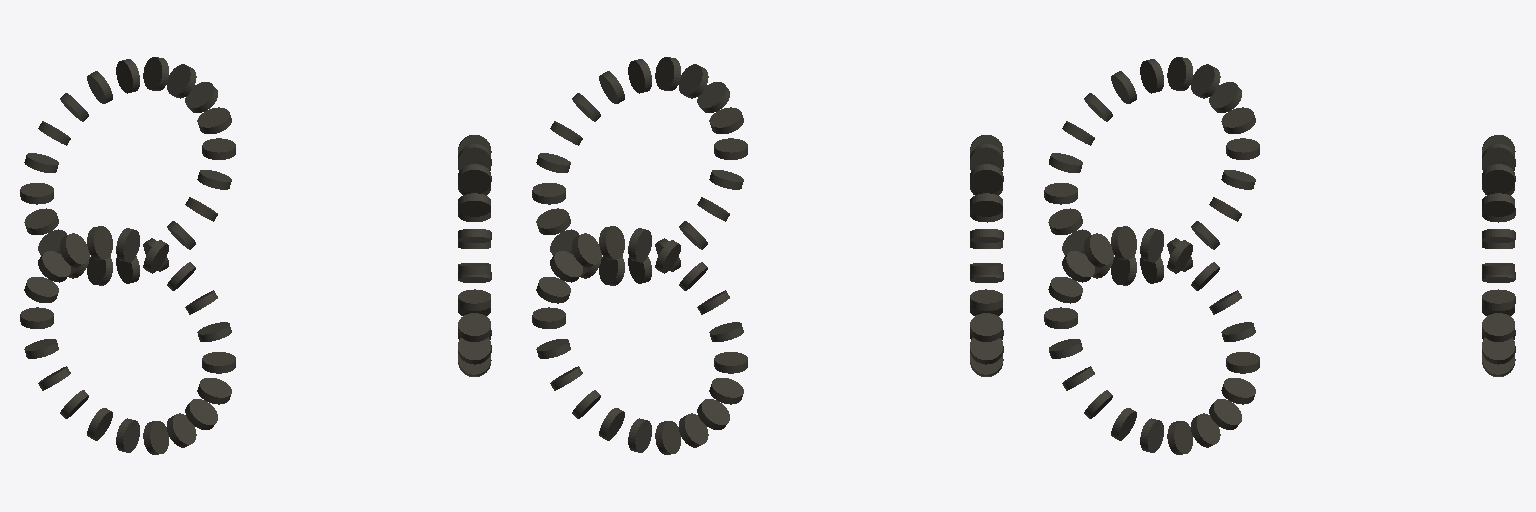
--- What the picture shows (computed from the rendered views, not written in the file) ---
Views: 3 orthographic renders of the robot side by side, from view 1: azimuth 30°, elevation 25°; view 2: azimuth 150°, elevation 25°; view 3: azimuth 270°, elevation 25°.
Model onshape with 65 links and 64 joints (63 revolute, 1 floating), rooted at body_1, posed all joints at 0.
Visible links, largest first — view 1: passivewheel_1, passivewheel_16, passivewheel_24, passivewheel_50, passivewheel_35, passivewheel_34, passivewheel_25, passivewheel_49, passivewheel_23, passivewheel_51, passivewheel_33, passivewheel_36 (+18 smaller); view 2: passivewheel_23, passivewheel_28, passivewheel_20, passivewheel_50, passivewheel_59, passivewheel_60, passivewheel_49, passivewheel_19, passivewheel_1, passivewheel_51, passivewheel_41, passivewheel_8 (+18 smaller); view 3: passivewheel_51, passivewheel_46, passivewheel_20, passivewheel_24, passivewheel_9, passivewheel_10, passivewheel_19, passivewheel_25, passivewheel_1, passivewheel_23, passivewheel_11, passivewheel_8 (+18 smaller).
Boxes of the visible links, bbox=[...] form: passivewheel_1: bbox=[458, 164, 491, 193]; passivewheel_16: bbox=[458, 313, 490, 341]; passivewheel_24: bbox=[60, 233, 89, 267]; passivewheel_50: bbox=[167, 64, 196, 98]; passivewheel_35: bbox=[185, 399, 217, 429]; passivewheel_34: bbox=[167, 413, 196, 447]; passivewheel_25: bbox=[38, 251, 70, 282]; passivewheel_49: bbox=[185, 82, 217, 112]; passivewheel_23: bbox=[87, 226, 112, 259]; passivewheel_51: bbox=[143, 57, 168, 90]; passivewheel_33: bbox=[143, 421, 168, 454]; passivewheel_36: bbox=[197, 378, 231, 404]; passivewheel_23: bbox=[970, 164, 1003, 193]; passivewheel_28: bbox=[970, 313, 1002, 341]; passivewheel_20: bbox=[679, 64, 708, 98]; passivewheel_50: bbox=[572, 233, 601, 267]; passivewheel_59: bbox=[697, 399, 729, 429]; passivewheel_60: bbox=[679, 413, 708, 447]; passivewheel_49: bbox=[550, 251, 582, 282]; passivewheel_19: bbox=[697, 82, 729, 112]; passivewheel_1: bbox=[655, 57, 680, 90]; passivewheel_51: bbox=[599, 226, 624, 259]; passivewheel_41: bbox=[655, 421, 680, 454]; passivewheel_8: bbox=[536, 208, 570, 234]; passivewheel_51: bbox=[1482, 164, 1515, 193]; passivewheel_46: bbox=[1482, 313, 1514, 341]; passivewheel_20: bbox=[1084, 233, 1113, 267]; passivewheel_24: bbox=[1191, 64, 1220, 98]; passivewheel_9: bbox=[1209, 399, 1241, 429]; passivewheel_10: bbox=[1191, 413, 1220, 447]; passivewheel_19: bbox=[1062, 251, 1094, 282]; passivewheel_25: bbox=[1209, 82, 1241, 112]; passivewheel_1: bbox=[1111, 226, 1136, 259]; passivewheel_23: bbox=[1167, 57, 1192, 90]; passivewheel_11: bbox=[1167, 421, 1192, 454]; passivewheel_8: bbox=[1221, 378, 1255, 404].
Size in the robot's own frame: 0.1924 by 0.1682 by 0.087 metres.
Geometry: only primitive shapes (box / cylinder / sphere) drawn; not drawn: 8 mesh visuals (reference in a form the renderer does not follow).

The robot description file, URDF, robot "onshape":
<robot name="onshape">
<link name="body_1">
<collision>
<origin xyz="-1.73472e-18 -6.93889e-18 2.60209e-18" rpy="0 -0 2.0944" />
<geometry>
<mesh filename="package://motor.stl"/>
</geometry>
<material name="motor_material">
<color rgba="0.647059 0.647059 0.647059 1.0"/>
</material>
</collision>
<visual>
<origin xyz="-1.73472e-18 -6.93889e-18 2.60209e-18" rpy="0 -0 2.0944" />
<geometry>
<mesh filename="package://motor.stl"/>
</geometry>
<material name="motor_material">
<color rgba="0.647059 0.647059 0.647059 1.0"/>
</material>
</visual>
<collision>
<origin xyz="0 6.93889e-18 0" rpy="0 -0 -2.0944" />
<geometry>
<mesh filename="package://motor.stl"/>
</geometry>
<material name="motor_material">
<color rgba="0.647059 0.647059 0.647059 1.0"/>
</material>
</collision>
<visual>
<origin xyz="0 6.93889e-18 0" rpy="0 -0 -2.0944" />
<geometry>
<mesh filename="package://motor.stl"/>
</geometry>
<material name="motor_material">
<color rgba="0.647059 0.647059 0.647059 1.0"/>
</material>
</visual>
<collision>
<origin xyz="0 0 0" rpy="0 -0 0" />
<geometry>
<mesh filename="package://motor.stl"/>
</geometry>
<material name="motor_material">
<color rgba="0.647059 0.647059 0.647059 1.0"/>
</material>
</collision>
<visual>
<origin xyz="0 0 0" rpy="0 -0 0" />
<geometry>
<mesh filename="package://motor.stl"/>
</geometry>
<material name="motor_material">
<color rgba="0.647059 0.647059 0.647059 1.0"/>
</material>
</visual>
<collision>
<origin xyz="0 0 0" rpy="0 -0 0" />
<geometry>
<mesh filename="package://plate.stl"/>
</geometry>
<material name="plate_material">
<color rgba="0.682353 0.333333 0.737255 1.0"/>
</material>
</collision>
<visual>
<origin xyz="0 0 0" rpy="0 -0 0" />
<geometry>
<mesh filename="package://plate.stl"/>
</geometry>
<material name="plate_material">
<color rgba="0.682353 0.333333 0.737255 1.0"/>
</material>
</visual>
<collision>
<origin xyz="0 0 0.023" rpy="0 -0 0" />
<geometry>
<mesh filename="package://plate.stl"/>
</geometry>
<material name="plate_material">
<color rgba="0.682353 0.333333 0.737255 1.0"/>
</material>
</collision>
<visual>
<origin xyz="0 0 0.023" rpy="0 -0 0" />
<geometry>
<mesh filename="package://plate.stl"/>
</geometry>
<material name="plate_material">
<color rgba="0.682353 0.333333 0.737255 1.0"/>
</material>
</visual>
<inertial>
<origin xyz="0.000413137 0.000238525 0.0129604" rpy="0 0 0"/>
<mass value="0.55184" />
<inertia ixx="0.000615732" ixy="-4.54339e-06"  ixz="-9.03686e-09" iyy="0.000620978" iyz="-5.21743e-09" izz="0.00118941" />
</inertial>
</link>

<link name="body">
<inertial>
<origin xyz="0 0 0" rpy="0 0 0" />
<mass value="1e-9" />
<inertia ixx="0" ixy="0" ixz="0" iyy="0" iyz="0" izz="0" />
</inertial>
</link>
<joint name="body_frame" type="floating">
<origin xyz="0.00418699 0.00241736 0.0145" rpy="0 -0 0.523599" />
<parent link="body_1" />
<child link="body" />
<axis xyz="0 0 0"/>
</joint>

<link name="wheel_1">
<collision>
<origin xyz="-0.0649519 0.0375 -0.013" rpy="0 -0 0" />
<geometry>
<mesh filename="package://wheel.stl"/>
</geometry>
<material name="wheel_material">
<color rgba="0.941176 0.87451 0.678431 1.0"/>
</material>
</collision>
<visual>
<origin xyz="-0.0649519 0.0375 -0.013" rpy="0 -0 0" />
<geometry>
<mesh filename="package://wheel.stl"/>
</geometry>
<material name="wheel_material">
<color rgba="0.941176 0.87451 0.678431 1.0"/>
</material>
</visual>
<inertial>
<origin xyz="0.00216506 -0.00125 1.43812e-09" rpy="0 0 0"/>
<mass value="0.0192491" />
<inertia ixx="1.19744e-05" ixy="-2.94324e-06"  ixz="-2.17358e-13" iyy="8.5758e-06" iyz="-4.22e-13" izz="6.87651e-06" />
</inertial>
</link>

<link name="passivewheel_1">
<collision>
<origin xyz="-8.65334e-20 -1.37444e-17 -0.002" rpy="-2.2109e-17 -2.24259e-18 1.48478e-17" />
<geometry>
<cylinder length="0.003" radius="0.006" />
</geometry>
</collision>
<visual>
<origin xyz="-8.65334e-20 -1.37444e-17 -0.002" rpy="-2.2109e-17 -2.24259e-18 1.48478e-17" />
<geometry>
<cylinder length="0.003" radius="0.006" />
</geometry>
<material name="passivewheel_material">
<color rgba="0.301961 0.290196 0.262745 1.0"/>
</material>
</visual>
<inertial>
<origin xyz="-7.33894e-20 -1.33556e-17 -0.002" rpy="0 0 0"/>
<mass value="0.00285906" />
<inertia ixx="2.77473e-08" ixy="4.48199e-25"  ixz="-1.0907e-24" iyy="2.77473e-08" iyz="7.68138e-25" izz="4.89774e-08" />
</inertial>
</link>

<joint name="w1_1_passive" type="revolute">
<origin xyz="-0.00458006 -0.0129329 0.0350466" rpy="1.88959 0.167828 -0.468522" />
<parent link="wheel_1" />
<child link="passivewheel_1" />
<axis xyz="0 0 -1"/>
<limit effort="1" velocity="20" />
<joint_properties friction="0.0"/>
</joint>

<link name="passivewheel_2">
<collision>
<origin xyz="-1.38226e-17 6.23173e-35 0.002" rpy="3.11587e-32 -6.45501e-17 -7.99795e-32" />
<geometry>
<cylinder length="0.003" radius="0.006" />
</geometry>
</collision>
<visual>
<origin xyz="-1.38226e-17 6.23173e-35 0.002" rpy="3.11587e-32 -6.45501e-17 -7.99795e-32" />
<geometry>
<cylinder length="0.003" radius="0.006" />
</geometry>
<material name="passivewheel_material">
<color rgba="0.301961 0.290196 0.262745 1.0"/>
</material>
</visual>
<inertial>
<origin xyz="-1.38094e-17 3.88785e-19 0.002" rpy="0 0 0"/>
<mass value="0.00285906" />
<inertia ixx="2.77473e-08" ixy="-3.7544e-39"  ixz="3.92767e-24" iyy="2.77473e-08" iyz="2.39064e-39" izz="4.89774e-08" />
</inertial>
</link>

<joint name="w1_2_passive" type="revolute">
<origin xyz="0.00116506 -0.00298205 0.0375" rpy="-1.5708 -1.43508e-16 -0.523599" />
<parent link="wheel_1" />
<child link="passivewheel_2" />
<axis xyz="0 0 -1"/>
<limit effort="1" velocity="20" />
<joint_properties friction="0.0"/>
</joint>

<link name="passivewheel_3">
<collision>
<origin xyz="1.38922e-17 2.6865e-20 0.002" rpy="1.06058e-17 -2.2972e-17 5.57501e-18" />
<geometry>
<cylinder length="0.003" radius="0.006" />
</geometry>
</collision>
<visual>
<origin xyz="1.38922e-17 2.6865e-20 0.002" rpy="1.06058e-17 -2.2972e-17 5.57501e-18" />
<geometry>
<cylinder length="0.003" radius="0.006" />
</geometry>
<material name="passivewheel_material">
<color rgba="0.301961 0.290196 0.262745 1.0"/>
</material>
</visual>
<inertial>
<origin xyz="1.39053e-17 4.1565e-19 0.002" rpy="0 0 0"/>
<mass value="0.00285906" />
<inertia ixx="2.77473e-08" ixy="-6.19881e-25"  ixz="1.32457e-24" iyy="2.77473e-08" iyz="8.9216e-25" izz="4.89774e-08" />
</inertial>
</link>

<joint name="w1_3_passive" type="revolute">
<origin xyz="0.00700808 0.00713834 0.0362827" rpy="-1.88959 -0.167828 -0.468522" />
<parent link="wheel_1" />
<child link="passivewheel_3" />
<axis xyz="0 0 1"/>
<limit effort="1" velocity="20" />
<joint_properties friction="0.0"/>
</joint>

<link name="passivewheel_4">
<collision>
<origin xyz="-1.39623e-17 -3.53119e-18 0.002" rpy="-3.70505e-17 9.26482e-18 -5.8578e-18" />
<geometry>
<cylinder length="0.003" radius="0.006" />
</geometry>
</collision>
<visual>
<origin xyz="-1.39623e-17 -3.53119e-18 0.002" rpy="-3.70505e-17 9.26482e-18 -5.8578e-18" />
<geometry>
<cylinder length="0.003" radius="0.006" />
</geometry>
<material name="passivewheel_material">
<color rgba="0.301961 0.290196 0.262745 1.0"/>
</material>
</visual>
<inertial>
<origin xyz="-1.39492e-17 -3.14241e-18 0.002" rpy="0 0 0"/>
<mass value="0.00285906" />
<inertia ixx="2.77473e-08" ixy="1.50205e-25"  ixz="-1.62648e-24" iyy="2.77473e-08" iyz="-2.67128e-24" izz="4.89774e-08" />
</inertial>
</link>

<joint name="w1_4_passive" type="revolute">
<origin xyz="0.012377 0.0164376 0.0315137" rpy="-2.22524 -0.263005 -0.326713" />
<parent link="wheel_1" />
<child link="passivewheel_4" />
<axis xyz="0 0 -1"/>
<limit effort="1" velocity="20" />
<joint_properties friction="0.0"/>
</joint>

<link name="passivewheel_5">
<collision>
<origin xyz="1.12586e-19 -1.7413e-18 0.002" rpy="-4.54039e-17 1.34564e-17 -8.80755e-18" />
<geometry>
<cylinder length="0.003" radius="0.006" />
</geometry>
</collision>
<visual>
<origin xyz="1.12586e-19 -1.7413e-18 0.002" rpy="-4.54039e-17 1.34564e-17 -8.80755e-18" />
<geometry>
<cylinder length="0.003" radius="0.006" />
</geometry>
<material name="passivewheel_material">
<color rgba="0.301961 0.290196 0.262745 1.0"/>
</material>
</visual>
<inertial>
<origin xyz="1.2573e-19 -1.35251e-18 0.002" rpy="0 0 0"/>
<mass value="0.00285906" />
<inertia ixx="2.77473e-08" ixy="-8.92466e-25"  ixz="9.02911e-25" iyy="2.77473e-08" iyz="-2.31498e-24" izz="4.89774e-08" />
</inertial>
</link>

<joint name="w1_5_passive" type="revolute">
<origin xyz="0.0167463 0.0240055 0.02366" rpy="-2.55942 -0.251389 -0.162305" />
<parent link="wheel_1" />
<child link="passivewheel_5" />
<axis xyz="0 0 -1"/>
<limit effort="1" velocity="20" />
<joint_properties friction="0.0"/>
</joint>

<link name="passivewheel_6">
<collision>
<origin xyz="-2.10013e-20 8.31218e-19 0.002" rpy="2.06449e-17 1.31438e-17 -3.67268e-19" />
<geometry>
<cylinder length="0.003" radius="0.006" />
</geometry>
</collision>
<visual>
<origin xyz="-2.10013e-20 8.31218e-19 0.002" rpy="2.06449e-17 1.31438e-17 -3.67268e-19" />
<geometry>
<cylinder length="0.003" radius="0.006" />
</geometry>
<material name="passivewheel_material">
<color rgba="0.301961 0.290196 0.262745 1.0"/>
</material>
</visual>
<inertial>
<origin xyz="-7.85727e-21 1.22e-18 0.002" rpy="0 0 0"/>
<mass value="0.00285906" />
<inertia ixx="2.77473e-08" ixy="-1.46704e-26"  ixz="-9.35112e-25" iyy="2.77473e-08" iyz="5.0969e-25" izz="4.89774e-08" />
</inertial>
</link>

<joint name="w1_6_passive" type="revolute">
<origin xyz="0.0196884 0.0291012 0.0134903" rpy="-2.86413 -0.149286 -0.042335" />
<parent link="wheel_1" />
<child link="passivewheel_6" />
<axis xyz="0 0 -1"/>
<limit effort="1" velocity="20" />
<joint_properties friction="0.0"/>
</joint>

<link name="passivewheel_7">
<collision>
<origin xyz="-1.97215e-34 -1.73472e-18 -0.002" rpy="-1.97215e-31 -9.86076e-32 2.15704e-32" />
<geometry>
<cylinder length="0.003" radius="0.006" />
</geometry>
</collision>
<visual>
<origin xyz="-1.97215e-34 -1.73472e-18 -0.002" rpy="-1.97215e-31 -9.86076e-32 2.15704e-32" />
<geometry>
<cylinder length="0.003" radius="0.006" />
</geometry>
<material name="passivewheel_material">
<color rgba="0.301961 0.290196 0.262745 1.0"/>
</material>
</visual>
<inertial>
<origin xyz="1.3144e-20 -1.34594e-18 -0.002" rpy="0 0 0"/>
<mass value="0.00285906" />
<inertia ixx="2.77473e-08" ixy="2.56509e-39"  ixz="2.09345e-39" iyy="2.77473e-08" iyz="-1.51313e-38" izz="4.89774e-08" />
</inertial>
</link>

<joint name="w1_7_passive" type="revolute">
<origin xyz="0.0209151 0.031226 0.002" rpy="1.88738e-15 -6.66134e-16 -4.85723e-16" />
<parent link="wheel_1" />
<child link="passivewheel_7" />
<axis xyz="0 0 1"/>
<limit effort="1" velocity="20" />
<joint_properties friction="0.0"/>
</joint>

<link name="passivewheel_8">
<collision>
<origin xyz="-1.39158e-17 -1.76166e-18 -0.002" rpy="4.52906e-18 -5.42635e-18 -9.08807e-18" />
<geometry>
<cylinder length="0.003" radius="0.006" />
</geometry>
</collision>
<visual>
<origin xyz="-1.39158e-17 -1.76166e-18 -0.002" rpy="4.52906e-18 -5.42635e-18 -9.08807e-18" />
<geometry>
<cylinder length="0.003" radius="0.006" />
</geometry>
<material name="passivewheel_material">
<color rgba="0.301961 0.290196 0.262745 1.0"/>
</material>
</visual>
<inertial>
<origin xyz="-1.39027e-17 -1.37287e-18 -0.002" rpy="0 0 0"/>
<mass value="0.00285906" />
<inertia ixx="2.77473e-08" ixy="-3.02658e-25"  ixz="-2.62042e-25" iyy="2.77473e-08" iyz="-1.51839e-25" izz="4.89774e-08" />
</inertial>
</link>

<joint name="w1_8_passive" type="revolute">
<origin xyz="0.0203064 0.0301717 -0.00968602" rpy="-0.277462 0.149286 -0.042335" />
<parent link="wheel_1" />
<child link="passivewheel_8" />
<axis xyz="0 0 -1"/>
<limit effort="1" velocity="20" />
<joint_properties friction="0.0"/>
</joint>

<link name="passivewheel_9">
<collision>
<origin xyz="-7.60547e-20 1.61524e-18 -0.002" rpy="-9.81892e-18 5.3587e-17 3.65203e-17" />
<geometry>
<cylinder length="0.003" radius="0.006" />
</geometry>
</collision>
<visual>
<origin xyz="-7.60547e-20 1.61524e-18 -0.002" rpy="-9.81892e-18 5.3587e-17 3.65203e-17" />
<geometry>
<cylinder length="0.003" radius="0.006" />
</geometry>
<material name="passivewheel_material">
<color rgba="0.301961 0.290196 0.262745 1.0"/>
</material>
</visual>
<inertial>
<origin xyz="-6.29107e-20 2.00403e-18 -0.002" rpy="0 0 0"/>
<mass value="0.00285906" />
<inertia ixx="2.77473e-08" ixy="1.81304e-24"  ixz="-3.6797e-24" iyy="2.77473e-08" iyz="-2.13855e-24" izz="4.89774e-08" />
</inertial>
</link>

<joint name="w1_9_passive" type="revolute">
<origin xyz="0.0179219 0.0260417 -0.0204239" rpy="-0.58217 0.251389 -0.162305" />
<parent link="wheel_1" />
<child link="passivewheel_9" />
<axis xyz="0 0 1"/>
<limit effort="1" velocity="20" />
<joint_properties friction="0.0"/>
</joint>

<link name="passivewheel_10">
<collision>
<origin xyz="2.75535e-17 -2.15212e-18 0.002" rpy="6.82258e-17 -4.15246e-17 8.09012e-18" />
<geometry>
<cylinder length="0.003" radius="0.006" />
</geometry>
</collision>
<visual>
<origin xyz="2.75535e-17 -2.15212e-18 0.002" rpy="6.82258e-17 -4.15246e-17 8.09012e-18" />
<geometry>
<cylinder length="0.003" radius="0.006" />
</geometry>
<material name="passivewheel_material">
<color rgba="0.301961 0.290196 0.262745 1.0"/>
</material>
</visual>
<inertial>
<origin xyz="2.75667e-17 -1.76333e-18 0.002" rpy="0 0 0"/>
<mass value="0.00285906" />
<inertia ixx="2.77473e-08" ixy="9.51103e-25"  ixz="-7.69204e-25" iyy="2.77473e-08" iyz="2.06328e-24" izz="4.89774e-08" />
</inertial>
</link>

<joint name="w1_10_passive" type="revolute">
<origin xyz="0.0139951 0.0192401 -0.0291626" rpy="2.22524 0.263005 -0.326713" />
<parent link="wheel_1" />
<child link="passivewheel_10" />
<axis xyz="0 0 -1"/>
<limit effort="1" velocity="20" />
<joint_properties friction="0.0"/>
</joint>

<link name="passivewheel_11">
<collision>
<origin xyz="4.18559e-20 -3.43295e-18 0.002" rpy="-7.98079e-18 4.98371e-17 -2.49231e-17" />
<geometry>
<cylinder length="0.003" radius="0.006" />
</geometry>
</collision>
<visual>
<origin xyz="4.18559e-20 -3.43295e-18 0.002" rpy="-7.98079e-18 4.98371e-17 -2.49231e-17" />
<geometry>
<cylinder length="0.003" radius="0.006" />
</geometry>
<material name="passivewheel_material">
<color rgba="0.301961 0.290196 0.262745 1.0"/>
</material>
</visual>
<inertial>
<origin xyz="5.49999e-20 -3.04416e-18 0.002" rpy="0 0 0"/>
<mass value="0.00285906" />
<inertia ixx="2.77473e-08" ixy="-6.30044e-25"  ixz="-1.8602e-24" iyy="2.77473e-08" iyz="1.15516e-25" izz="4.89774e-08" />
</inertial>
</link>

<joint name="w1_11_passive" type="revolute">
<origin xyz="0.00891019 0.0104329 -0.0350466" rpy="1.88959 0.167828 -0.468522" />
<parent link="wheel_1" />
<child link="passivewheel_11" />
<axis xyz="0 0 -1"/>
<limit effort="1" velocity="20" />
<joint_properties friction="0.0"/>
</joint>

<link name="passivewheel_12">
<collision>
<origin xyz="2.75633e-17 -4.93038e-35 0.002" rpy="0 -1.48742e-17 3.08149e-33" />
<geometry>
<cylinder length="0.003" radius="0.006" />
</geometry>
</collision>
<visual>
<origin xyz="2.75633e-17 -4.93038e-35 0.002" rpy="0 -1.48742e-17 3.08149e-33" />
<geometry>
<cylinder length="0.003" radius="0.006" />
</geometry>
<material name="passivewheel_material">
<color rgba="0.301961 0.290196 0.262745 1.0"/>
</material>
</visual>
<inertial>
<origin xyz="2.75764e-17 3.88785e-19 0.002" rpy="0 0 0"/>
<mass value="0.00285906" />
<inertia ixx="2.77473e-08" ixy="8.55029e-41"  ixz="-1.93935e-24" iyy="2.77473e-08" iyz="-6.84023e-40" izz="4.89774e-08" />
</inertial>
</link>

<joint name="w1_12_passive" type="revolute">
<origin xyz="0.00316506 0.000482051 -0.0375" rpy="1.5708 2.76844e-17 -0.523599" />
<parent link="wheel_1" />
<child link="passivewheel_12" />
<axis xyz="0 0 -1"/>
<limit effort="1" velocity="20" />
<joint_properties friction="0.0"/>
</joint>

<link name="passivewheel_13">
<collision>
<origin xyz="7.21753e-20 3.90318e-21 0.002" rpy="-1.58601e-18 -7.60053e-17 -3.40008e-17" />
<geometry>
<cylinder length="0.003" radius="0.006" />
</geometry>
</collision>
<visual>
<origin xyz="7.21753e-20 3.90318e-21 0.002" rpy="-1.58601e-18 -7.60053e-17 -3.40008e-17" />
<geometry>
<cylinder length="0.003" radius="0.006" />
</geometry>
<material name="passivewheel_material">
<color rgba="0.301961 0.290196 0.262745 1.0"/>
</material>
</visual>
<inertial>
<origin xyz="8.53194e-20 3.92688e-19 0.002" rpy="0 0 0"/>
<mass value="0.00285906" />
<inertia ixx="2.77473e-08" ixy="-8.22243e-25"  ixz="4.72388e-24" iyy="2.77473e-08" iyz="-2.35274e-26" izz="4.89774e-08" />
</inertial>
</link>

<joint name="w1_13_passive" type="revolute">
<origin xyz="-0.00267795 -0.00963834 -0.0362827" rpy="1.252 -0.167828 -0.468522" />
<parent link="wheel_1" />
<child link="passivewheel_13" />
<axis xyz="0 0 -1"/>
<limit effort="1" velocity="20" />
<joint_properties friction="0.0"/>
</joint>

<link name="passivewheel_14">
<collision>
<origin xyz="8.27648e-20 -6.65655e-18 -0.002" rpy="3.53392e-17 1.28571e-16 3.49542e-17" />
<geometry>
<cylinder length="0.003" radius="0.006" />
</geometry>
</collision>
<visual>
<origin xyz="8.27648e-20 -6.65655e-18 -0.002" rpy="3.53392e-17 1.28571e-16 3.49542e-17" />
<geometry>
<cylinder length="0.003" radius="0.006" />
</geometry>
<material name="passivewheel_material">
<color rgba="0.301961 0.290196 0.262745 1.0"/>
</material>
</visual>
<inertial>
<origin xyz="9.59088e-20 -6.26776e-18 -0.002" rpy="0 0 0"/>
<mass value="0.00285906" />
<inertia ixx="2.77473e-08" ixy="1.49204e-24"  ixz="-5.1488e-24" iyy="2.77473e-08" iyz="5.648e-24" izz="4.89774e-08" />
</inertial>
</link>

<joint name="w1_14_passive" type="revolute">
<origin xyz="-0.00804689 -0.0189376 -0.0315137" rpy="-2.22524 -0.263005 -0.326713" />
<parent link="wheel_1" />
<child link="passivewheel_14" />
<axis xyz="0 0 1"/>
<limit effort="1" velocity="20" />
<joint_properties friction="0.0"/>
</joint>

<link name="passivewheel_15">
<collision>
<origin xyz="5.4097e-20 1.39009e-17 -0.002" rpy="2.59376e-17 9.30841e-18 -2.04356e-18" />
<geometry>
<cylinder length="0.003" radius="0.006" />
</geometry>
</collision>
<visual>
<origin xyz="5.4097e-20 1.39009e-17 -0.002" rpy="2.59376e-17 9.30841e-18 -2.04356e-18" />
<geometry>
<cylinder length="0.003" radius="0.006" />
</geometry>
<material name="passivewheel_material">
<color rgba="0.301961 0.290196 0.262745 1.0"/>
</material>
</visual>
<inertial>
<origin xyz="6.7241e-20 1.42897e-17 -0.002" rpy="0 0 0"/>
<mass value="0.00285906" />
<inertia ixx="2.77473e-08" ixy="-9.19631e-27"  ixz="2.9462e-25" iyy="2.77473e-08" iyz="1.59155e-24" izz="4.89774e-08" />
</inertial>
</link>

<joint name="w1_15_passive" type="revolute">
<origin xyz="-0.0124162 -0.0265055 -0.02366" rpy="-2.55942 -0.251389 -0.162305" />
<parent link="wheel_1" />
<child link="passivewheel_15" />
<axis xyz="0 0 1"/>
<limit effort="1" velocity="20" />
<joint_properties friction="0.0"/>
</joint>

<link name="passivewheel_16">
<collision>
<origin xyz="6.95999e-18 -1.36977e-17 -0.002" rpy="2.08155e-17 2.33252e-17 -9.41875e-18" />
<geometry>
<cylinder length="0.003" radius="0.006" />
</geometry>
</collision>
<visual>
<origin xyz="6.95999e-18 -1.36977e-17 -0.002" rpy="2.08155e-17 2.33252e-17 -9.41875e-18" />
<geometry>
<cylinder length="0.003" radius="0.006" />
</geometry>
<material name="passivewheel_material">
<color rgba="0.301961 0.290196 0.262745 1.0"/>
</material>
</visual>
<inertial>
<origin xyz="6.97313e-18 -1.33089e-17 -0.002" rpy="0 0 0"/>
<mass value="0.00285906" />
<inertia ixx="2.77473e-08" ixy="-1.79804e-25"  ixz="-8.49718e-25" iyy="2.77473e-08" iyz="3.51849e-24" izz="4.89774e-08" />
</inertial>
</link>

<joint name="w1_16_passive" type="revolute">
<origin xyz="-0.0153582 -0.0316012 -0.0134903" rpy="-2.86413 -0.149286 -0.042335" />
<parent link="wheel_1" />
<child link="passivewheel_16" />
<axis xyz="0 0 1"/>
<limit effort="1" velocity="20" />
<joint_properties friction="0.0"/>
</joint>

<link name="passivewheel_17">
<collision>
<origin xyz="2.27711e-48 -1.38778e-17 -0.002" rpy="2.46519e-32 -5.69278e-46 -1.54074e-33" />
<geometry>
<cylinder length="0.003" radius="0.006" />
</geometry>
</collision>
<visual>
<origin xyz="2.27711e-48 -1.38778e-17 -0.002" rpy="2.46519e-32 -5.69278e-46 -1.54074e-33" />
<geometry>
<cylinder length="0.003" radius="0.006" />
</geometry>
<material name="passivewheel_material">
<color rgba="0.301961 0.290196 0.262745 1.0"/>
</material>
</visual>
<inertial>
<origin xyz="1.3144e-20 -1.3489e-17 -0.002" rpy="0 0 0"/>
<mass value="0.00285906" />
<inertia ixx="2.77473e-08" ixy="-3.42012e-40"  ixz="5.94735e-53" iyy="2.77473e-08" iyz="1.89141e-39" izz="4.89774e-08" />
</inertial>
</link>

<joint name="w1_17_passive" type="revolute">
<origin xyz="-0.0165849 -0.033726 -0.002" rpy="3.14159 -5.55112e-17 8.32667e-17" />
<parent link="wheel_1" />
<child link="passivewheel_17" />
<axis xyz="0 0 -1"/>
<limit effort="1" velocity="20" />
<joint_properties friction="0.0"/>
</joint>

<link name="passivewheel_18">
<collision>
<origin xyz="6.91527e-18 1.37823e-17 0.002" rpy="-8.55049e-18 -1.51043e-17 2.07291e-19" />
<geometry>
<cylinder length="0.003" radius="0.006" />
</geometry>
</collision>
<visual>
<origin xyz="6.91527e-18 1.37823e-17 0.002" rpy="-8.55049e-18 -1.51043e-17 2.07291e-19" />
<geometry>
<cylinder length="0.003" radius="0.006" />
</geometry>
<material name="passivewheel_material">
<color rgba="0.301961 0.290196 0.262745 1.0"/>
</material>
</visual>
<inertial>
<origin xyz="6.92841e-18 1.41711e-17 0.002" rpy="0 0 0"/>
<mass value="0.00285906" />
<inertia ixx="2.77473e-08" ixy="6.34976e-26"  ixz="4.12016e-25" iyy="2.77473e-08" iyz="-1.74364e-24" izz="4.89774e-08" />
</inertial>
</link>

<joint name="w1_18_passive" type="revolute">
<origin xyz="-0.0159763 -0.0326717 0.00968602" rpy="-0.277462 0.149286 -0.042335" />
<parent link="wheel_1" />
<child link="passivewheel_18" />
<axis xyz="0 0 -1"/>
<limit effort="1" velocity="20" />
<joint_properties friction="0.0"/>
</joint>

<link name="passivewheel_19">
<collision>
<origin xyz="-6.99736e-18 7.83154e-20 0.002" rpy="1.07489e-16 -1.34964e-18 -1.25099e-17" />
<geometry>
<cylinder length="0.003" radius="0.006" />
</geometry>
</collision>
<visual>
<origin xyz="-6.99736e-18 7.83154e-20 0.002" rpy="1.07489e-16 -1.34964e-18 -1.25099e-17" />
<geometry>
<cylinder length="0.003" radius="0.006" />
</geometry>
<material name="passivewheel_material">
<color rgba="0.301961 0.290196 0.262745 1.0"/>
</material>
</visual>
<inertial>
<origin xyz="-6.98422e-18 4.67101e-19 0.002" rpy="0 0 0"/>
<mass value="0.00285906" />
<inertia ixx="2.77473e-08" ixy="-1.08884e-24"  ixz="-7.45024e-25" iyy="2.77473e-08" iyz="6.35107e-24" izz="4.89774e-08" />
</inertial>
</link>

<joint name="w1_19_passive" type="revolute">
<origin xyz="-0.0135918 -0.0285417 0.0204239" rpy="-0.58217 0.251389 -0.162305" />
<parent link="wheel_1" />
<child link="passivewheel_19" />
<axis xyz="0 0 -1"/>
<limit effort="1" velocity="20" />
<joint_properties friction="0.0"/>
</joint>

<link name="passivewheel_20">
<collision>
<origin xyz="-3.03261e-20 -1.36656e-17 0.002" rpy="3.40716e-18 2.76633e-17 -1.32691e-17" />
<geometry>
<cylinder length="0.003" radius="0.006" />
</geometry>
</collision>
<visual>
<origin xyz="-3.03261e-20 -1.36656e-17 0.002" rpy="3.40716e-18 2.76633e-17 -1.32691e-17" />
<geometry>
<cylinder length="0.003" radius="0.006" />
</geometry>
<material name="passivewheel_material">
<color rgba="0.301961 0.290196 0.262745 1.0"/>
</material>
</visual>
<inertial>
<origin xyz="-1.71821e-20 -1.32768e-17 0.002" rpy="0 0 0"/>
<mass value="0.00285906" />
<inertia ixx="2.77473e-08" ixy="-6.14637e-25"  ixz="-1.77561e-24" iyy="2.77473e-08" iyz="3.11072e-24" izz="4.89774e-08" />
</inertial>
</link>

<joint name="w1_20_passive" type="revolute">
<origin xyz="-0.00966493 -0.0217401 0.0291626" rpy="-0.916354 0.263005 -0.326713" />
<parent link="wheel_1" />
<child link="passivewheel_20" />
<axis xyz="0 0 -1"/>
<limit effort="1" velocity="20" />
<joint_properties friction="0.0"/>
</joint>

<joint name="wheel1_speed" type="revolute">
<origin xyz="0.069282 -0.04 0.013" rpy="0 -0 0" />
<parent link="body_1" />
<child link="wheel_1" />
<axis xyz="-0.866025 0.5 0"/>
<limit effort="1" velocity="20" />
<joint_properties friction="0.0"/>
</joint>

<link name="wheel_2">
<collision>
<origin xyz="-0.069282 0.04 -0.013" rpy="0 -0 -4.43364e-17" />
<geometry>
<mesh filename="package://wheel.stl"/>
</geometry>
<material name="wheel_material">
<color rgba="0.941176 0.87451 0.678431 1.0"/>
</material>
</collision>
<visual>
<origin xyz="-0.069282 0.04 -0.013" rpy="0 -0 -4.43364e-17" />
<geometry>
<mesh filename="package://wheel.stl"/>
</geometry>
<material name="wheel_material">
<color rgba="0.941176 0.87451 0.678431 1.0"/>
</material>
</visual>
<inertial>
<origin xyz="-0.00216506 0.00125 1.43812e-09" rpy="0 0 0"/>
<mass value="0.0192491" />
<inertia ixx="1.19744e-05" ixy="-2.94324e-06"  ixz="-2.17358e-13" iyy="8.5758e-06" iyz="-4.22e-13" izz="6.87651e-06" />
</inertial>
</link>

<link name="passivewheel_21">
<collision>
<origin xyz="1.38506e-17 -1.40281e-17 -0.002" rpy="-2.21979e-17 -1.58884e-17 2.11441e-17" />
<geometry>
<cylinder length="0.003" radius="0.006" />
</geometry>
</collision>
<visual>
<origin xyz="1.38506e-17 -1.40281e-17 -0.002" rpy="-2.21979e-17 -1.58884e-17 2.11441e-17" />
<geometry>
<cylinder length="0.003" radius="0.006" />
</geometry>
<material name="passivewheel_material">
<color rgba="0.301961 0.290196 0.262745 1.0"/>
</material>
</visual>
<inertial>
<origin xyz="1.38637e-17 -1.36393e-17 -0.002" rpy="0 0 0"/>
<mass value="0.00285906" />
<inertia ixx="2.77473e-08" ixy="1.6627e-25"  ixz="4.00778e-25" iyy="2.77473e-08" iyz="-3.17304e-24" izz="4.89774e-08" />
</inertial>
</link>

<joint name="w3_1_passive" type="revolute">
<origin xyz="-0.00891019 -0.0104329 0.0350466" rpy="1.88959 -0.167828 -0.578675" />
<parent link="wheel_2" />
<child link="passivewheel_21" />
<axis xyz="0 0 -1"/>
<limit effort="1" velocity="20" />
<joint_properties friction="0.0"/>
</joint>

<link name="passivewheel_22">
<collision>
<origin xyz="-1.16704e-20 -1.22442e-35 0.002" rpy="6.23173e-32 -8.75281e-18 -6.02378e-33" />
<geometry>
<cylinder length="0.003" radius="0.006" />
</geometry>
</collision>
<visual>
<origin xyz="-1.16704e-20 -1.22442e-35 0.002" rpy="6.23173e-32 -8.75281e-18 -6.02378e-33" />
<geometry>
<cylinder length="0.003" radius="0.006" />
</geometry>
<material name="passivewheel_material">
<color rgba="0.301961 0.290196 0.262745 1.0"/>
</material>
</visual>
<inertial>
<origin xyz="1.47359e-21 3.88785e-19 0.002" rpy="0 0 0"/>
<mass value="0.00285906" />
<inertia ixx="2.77473e-08" ixy="3.76985e-39"  ixz="2.66779e-25" iyy="2.77473e-08" iyz="2.88227e-39" izz="4.89774e-08" />
</inertial>
</link>

<joint name="w3_2_passive" type="revolute">
<origin xyz="-0.00316506 -0.000482051 0.0375" rpy="-1.5708 1.89559e-16 -0.523599" />
<parent link="wheel_2" />
<child link="passivewheel_22" />
<axis xyz="0 0 -1"/>
<limit effort="1" velocity="20" />
<joint_properties friction="0.0"/>
</joint>

<link name="passivewheel_23">
<collision>
<origin xyz="-2.80726e-17 1.38151e-17 0.002" rpy="2.48674e-17 -6.04595e-17 -5.28499e-17" />
<geometry>
<cylinder length="0.003" radius="0.006" />
</geometry>
</collision>
<visual>
<origin xyz="-2.80726e-17 1.38151e-17 0.002" rpy="2.48674e-17 -6.04595e-17 -5.28499e-17" />
<geometry>
<cylinder length="0.003" radius="0.006" />
</geometry>
<material name="passivewheel_material">
<color rgba="0.301961 0.290196 0.262745 1.0"/>
</material>
</visual>
<inertial>
<origin xyz="-2.80594e-17 1.42039e-17 0.002" rpy="0 0 0"/>
<mass value="0.00285906" />
<inertia ixx="2.77473e-08" ixy="-1.05229e-24"  ixz="-1.43695e-24" iyy="2.77473e-08" iyz="3.47934e-25" izz="4.89774e-08" />
</inertial>
</link>

<joint name="w3_3_passive" type="revolute">
<origin xyz="0.00267795 0.00963834 0.0362827" rpy="-1.88959 0.167828 -0.578675" />
<parent link="wheel_2" />
<child link="passivewheel_23" />
<axis xyz="0 0 1"/>
<limit effort="1" velocity="20" />
<joint_properties friction="0.0"/>
</joint>

<link name="passivewheel_24">
<collision>
<origin xyz="1.44968e-20 -3.3505e-18 0.002" rpy="-2.55867e-17 -1.18157e-17 2.34424e-17" />
<geometry>
<cylinder length="0.003" radius="0.006" />
</geometry>
</collision>
<visual>
<origin xyz="1.44968e-20 -3.3505e-18 0.002" rpy="-2.55867e-17 -1.18157e-17 2.34424e-17" />
<geometry>
<cylinder length="0.003" radius="0.006" />
</geometry>
<material name="passivewheel_material">
<color rgba="0.301961 0.290196 0.262745 1.0"/>
</material>
</visual>
<inertial>
<origin xyz="2.76409e-20 -2.96171e-18 0.002" rpy="0 0 0"/>
<mass value="0.00285906" />
<inertia ixx="2.77473e-08" ixy="5.45747e-25"  ixz="7.79828e-25" iyy="2.77473e-08" iyz="3.97107e-25" izz="4.89774e-08" />
</inertial>
</link>

<joint name="w3_4_passive" type="revolute">
<origin xyz="0.00804689 0.0189376 0.0315137" rpy="-2.22524 0.263005 -0.720484" />
<parent link="wheel_2" />
<child link="passivewheel_24" />
<axis xyz="0 0 -1"/>
<limit effort="1" velocity="20" />
<joint_properties friction="0.0"/>
</joint>

<link name="passivewheel_25">
<collision>
<origin xyz="-1.20354e-20 8.04302e-19 0.002" rpy="-7.77496e-18 -1.26864e-17 2.45234e-17" />
<geometry>
<cylinder length="0.003" radius="0.006" />
</geometry>
</collision>
<visual>
<origin xyz="-1.20354e-20 8.04302e-19 0.002" rpy="-7.77496e-18 -1.26864e-17 2.45234e-17" />
<geometry>
<cylinder length="0.003" radius="0.006" />
</geometry>
<material name="passivewheel_material">
<color rgba="0.301961 0.290196 0.262745 1.0"/>
</material>
</visual>
<inertial>
<origin xyz="1.10858e-21 1.19309e-18 0.002" rpy="0 0 0"/>
<mass value="0.00285906" />
<inertia ixx="2.77473e-08" ixy="3.78613e-25"  ixz="4.54374e-25" iyy="2.77473e-08" iyz="-1.25566e-24" izz="4.89774e-08" />
</inertial>
</link>

<joint name="w3_5_passive" type="revolute">
<origin xyz="0.0124162 0.0265055 0.02366" rpy="-2.55942 0.251389 -0.884893" />
<parent link="wheel_2" />
<child link="passivewheel_25" />
<axis xyz="0 0 -1"/>
<limit effort="1" velocity="20" />
<joint_properties friction="0.0"/>
</joint>

<link name="passivewheel_26">
<collision>
<origin xyz="-1.3912e-17 8.66279e-19 0.002" rpy="6.44137e-17 1.0626e-17 -3.26263e-18" />
<geometry>
<cylinder length="0.003" radius="0.006" />
</geometry>
</collision>
<visual>
<origin xyz="-1.3912e-17 8.66279e-19 0.002" rpy="6.44137e-17 1.0626e-17 -3.26263e-18" />
<geometry>
<cylinder length="0.003" radius="0.006" />
</geometry>
<material name="passivewheel_material">
<color rgba="0.301961 0.290196 0.262745 1.0"/>
</material>
</visual>
<inertial>
<origin xyz="-1.38989e-17 1.25506e-18 0.002" rpy="0 0 0"/>
<mass value="0.00285906" />
<inertia ixx="2.77473e-08" ixy="-3.58631e-26"  ixz="-9.9525e-25" iyy="2.77473e-08" iyz="3.13979e-24" izz="4.89774e-08" />
</inertial>
</link>

<joint name="w3_6_passive" type="revolute">
<origin xyz="0.0153582 0.0316012 0.0134903" rpy="-2.86413 0.149286 -1.00486" />
<parent link="wheel_2" />
<child link="passivewheel_26" />
<axis xyz="0 0 -1"/>
<limit effort="1" velocity="20" />
<joint_properties friction="0.0"/>
</joint>

<link name="passivewheel_27">
<collision>
<origin xyz="-1.97215e-34 -3.46945e-18 -0.002" rpy="-1.97215e-31 -9.86076e-32 2.15704e-32" />
<geometry>
<cylinder length="0.003" radius="0.006" />
</geometry>
</collision>
<visual>
<origin xyz="-1.97215e-34 -3.46945e-18 -0.002" rpy="-1.97215e-31 -9.86076e-32 2.15704e-32" />
<geometry>
<cylinder length="0.003" radius="0.006" />
</geometry>
<material name="passivewheel_material">
<color rgba="0.301961 0.290196 0.262745 1.0"/>
</material>
</visual>
<inertial>
<origin xyz="1.3144e-20 -3.08066e-18 -0.002" rpy="0 0 0"/>
<mass value="0.00285906" />
<inertia ixx="2.77473e-08" ixy="2.56509e-39"  ixz="2.09345e-39" iyy="2.77473e-08" iyz="-1.51313e-38" izz="4.89774e-08" />
</inertial>
</link>

<joint name="w3_7_passive" type="revolute">
<origin xyz="0.0165849 0.033726 0.002" rpy="1.88738e-15 -6.66134e-16 -1.0472" />
<parent link="wheel_2" />
<child link="passivewheel_27" />
<axis xyz="0 0 1"/>
<limit effort="1" velocity="20" />
<joint_properties friction="0.0"/>
</joint>

<link name="passivewheel_28">
<collision>
<origin xyz="1.38783e-17 -5.59634e-20 -0.002" rpy="-5.22147e-18 4.88249e-18 -4.78549e-19" />
<geometry>
<cylinder length="0.003" radius="0.006" />
</geometry>
</collision>
<visual>
<origin xyz="1.38783e-17 -5.59634e-20 -0.002" rpy="-5.22147e-18 4.88249e-18 -4.78549e-19" />
<geometry>
<cylinder length="0.003" radius="0.006" />
</geometry>
<material name="passivewheel_material">
<color rgba="0.301961 0.290196 0.262745 1.0"/>
</material>
</visual>
<inertial>
<origin xyz="1.38914e-17 3.32822e-19 -0.002" rpy="0 0 0"/>
<mass value="0.00285906" />
<inertia ixx="2.77473e-08" ixy="-1.07718e-25"  ixz="-2.32578e-25" iyy="2.77473e-08" iyz="-1.03215e-24" izz="4.89774e-08" />
</inertial>
</link>

<joint name="w3_8_passive" type="revolute">
<origin xyz="0.0159763 0.0326717 -0.00968602" rpy="-0.277462 -0.149286 -1.00486" />
<parent link="wheel_2" />
<child link="passivewheel_28" />
<axis xyz="0 0 -1"/>
<limit effort="1" velocity="20" />
<joint_properties friction="0.0"/>
</joint>

<link name="passivewheel_29">
<collision>
<origin xyz="1.39212e-17 -1.70274e-18 -0.002" rpy="2.34669e-17 2.68506e-17 3.3256e-17" />
<geometry>
<cylinder length="0.003" radius="0.006" />
</geometry>
</collision>
<visual>
<origin xyz="1.39212e-17 -1.70274e-18 -0.002" rpy="2.34669e-17 2.68506e-17 3.3256e-17" />
<geometry>
<cylinder length="0.003" radius="0.006" />
</geometry>
<material name="passivewheel_material">
<color rgba="0.301961 0.290196 0.262745 1.0"/>
</material>
</visual>
<inertial>
<origin xyz="1.39343e-17 -1.31396e-18 -0.002" rpy="0 0 0"/>
<mass value="0.00285906" />
<inertia ixx="2.77473e-08" ixy="1.4048e-24"  ixz="-7.13309e-25" iyy="2.77473e-08" iyz="1.59302e-24" izz="4.89774e-08" />
</inertial>
</link>

<joint name="w3_9_passive" type="revolute">
<origin xyz="0.0135918 0.0285417 -0.0204239" rpy="-0.58217 -0.251389 -0.884893" />
<parent link="wheel_2" />
<child link="passivewheel_29" />
<axis xyz="0 0 1"/>
<limit effort="1" velocity="20" />
<joint_properties friction="0.0"/>
</joint>

<link name="passivewheel_30">
<collision>
<origin xyz="-6.24677e-20 -3.26896e-18 0.002" rpy="3.95586e-17 -4.82682e-17 4.62289e-17" />
<geometry>
<cylinder length="0.003" radius="0.006" />
</geometry>
</collision>
<visual>
<origin xyz="-6.24677e-20 -3.26896e-18 0.002" rpy="3.95586e-17 -4.82682e-17 4.62289e-17" />
<geometry>
<cylinder length="0.003" radius="0.006" />
</geometry>
<material name="passivewheel_material">
<color rgba="0.301961 0.290196 0.262745 1.0"/>
</material>
</visual>
<inertial>
<origin xyz="-4.93237e-20 -2.88017e-18 0.002" rpy="0 0 0"/>
<mass value="0.00285906" />
<inertia ixx="2.77473e-08" ixy="5.53782e-25"  ixz="1.4974e-24" iyy="2.77473e-08" iyz="3.2148e-24" izz="4.89774e-08" />
</inertial>
</link>

<joint name="w3_10_passive" type="revolute">
<origin xyz="0.00966493 0.0217401 -0.0291626" rpy="2.22524 -0.263005 -0.720484" />
<parent link="wheel_2" />
<child link="passivewheel_30" />
<axis xyz="0 0 -1"/>
<limit effort="1" velocity="20" />
<joint_properties friction="0.0"/>
</joint>

<link name="passivewheel_31">
<collision>
<origin xyz="1.38321e-17 -3.4402e-18 0.002" rpy="-2.47117e-17 -3.76321e-17 9.30769e-18" />
<geometry>
<cylinder length="0.003" radius="0.006" />
</geometry>
</collision>
<visual>
<origin xyz="1.38321e-17 -3.4402e-18 0.002" rpy="-2.47117e-17 -3.76321e-17 9.30769e-18" />
<geometry>
<cylinder length="0.003" radius="0.006" />
</geometry>
<material name="passivewheel_material">
<color rgba="0.301961 0.290196 0.262745 1.0"/>
</material>
</visual>
<inertial>
<origin xyz="1.38453e-17 -3.05141e-18 0.002" rpy="0 0 0"/>
<mass value="0.00285906" />
<inertia ixx="2.77473e-08" ixy="9.55002e-25"  ixz="1.20975e-24" iyy="2.77473e-08" iyz="-8.04549e-25" izz="4.89774e-08" />
</inertial>
</link>

<joint name="w3_11_passive" type="revolute">
<origin xyz="0.00458006 0.0129329 -0.0350466" rpy="1.88959 -0.167828 -0.578675" />
<parent link="wheel_2" />
<child link="passivewheel_31" />
<axis xyz="0 0 -1"/>
<limit effort="1" velocity="20" />
<joint_properties friction="0.0"/>
</joint>

<link name="passivewheel_32">
<collision>
<origin xyz="1.40483e-17 0 0.002" rpy="-1.2326e-32 2.17773e-17 0" />
<geometry>
<cylinder length="0.003" radius="0.006" />
</geometry>
</collision>
<visual>
<origin xyz="1.40483e-17 0 0.002" rpy="-1.2326e-32 2.17773e-17 0" />
<geometry>
<cylinder length="0.003" radius="0.006" />
</geometry>
<material name="passivewheel_material">
<color rgba="0.301961 0.290196 0.262745 1.0"/>
</material>
</visual>
<inertial>
<origin xyz="1.40615e-17 3.88785e-19 0.002" rpy="0 0 0"/>
<mass value="0.00285906" />
<inertia ixx="2.77473e-08" ixy="-1.06879e-41"  ixz="1.29912e-24" iyy="2.77473e-08" iyz="-6.03693e-40" izz="4.89774e-08" />
</inertial>
</link>

<joint name="w3_12_passive" type="revolute">
<origin xyz="-0.00116506 0.00298205 -0.0375" rpy="1.5708 -8.33379e-17 -0.523599" />
<parent link="wheel_2" />
<child link="passivewheel_32" />
<axis xyz="0 0 -1"/>
<limit effort="1" velocity="20" />
<joint_properties friction="0.0"/>
</joint>

<link name="passivewheel_33">
<collision>
<origin xyz="-1.38959e-17 -9.9866e-20 0.002" rpy="-1.91628e-17 4.36875e-17 1.12479e-17" />
<geometry>
<cylinder length="0.003" radius="0.006" />
</geometry>
</collision>
<visual>
<origin xyz="-1.38959e-17 -9.9866e-20 0.002" rpy="-1.91628e-17 4.36875e-17 1.12479e-17" />
<geometry>
<cylinder length="0.003" radius="0.006" />
</geometry>
<material name="passivewheel_material">
<color rgba="0.301961 0.290196 0.262745 1.0"/>
</material>
</visual>
<inertial>
<origin xyz="-1.38828e-17 2.88919e-19 0.002" rpy="0 0 0"/>
<mass value="0.00285906" />
<inertia ixx="2.77473e-08" ixy="5.36201e-25"  ixz="-2.39139e-24" iyy="2.77473e-08" iyz="-2.32405e-24" izz="4.89774e-08" />
</inertial>
</link>

<joint name="w3_13_passive" type="revolute">
<origin xyz="-0.00700808 -0.00713834 -0.0362827" rpy="1.252 0.167828 -0.578675" />
<parent link="wheel_2" />
<child link="passivewheel_33" />
<axis xyz="0 0 -1"/>
<limit effort="1" velocity="20" />
<joint_properties friction="0.0"/>
</joint>

<link name="passivewheel_34">
<collision>
<origin xyz="-8.13123e-21 -6.82645e-18 -0.002" rpy="-6.29321e-17 -4.77752e-17 -1.73308e-17" />
<geometry>
<cylinder length="0.003" radius="0.006" />
</geometry>
</collision>
<visual>
<origin xyz="-8.13123e-21 -6.82645e-18 -0.002" rpy="-6.29321e-17 -4.77752e-17 -1.73308e-17" />
<geometry>
<cylinder length="0.003" radius="0.006" />
</geometry>
<material name="passivewheel_material">
<color rgba="0.301961 0.290196 0.262745 1.0"/>
</material>
</visual>
<inertial>
<origin xyz="5.01277e-21 -6.43766e-18 -0.002" rpy="0 0 0"/>
<mass value="0.00285906" />
<inertia ixx="2.77473e-08" ixy="-1.6752e-24"  ixz="2.22709e-24" iyy="2.77473e-08" iyz="-1.52218e-24" izz="4.89774e-08" />
</inertial>
</link>

<joint name="w3_14_passive" type="revolute">
<origin xyz="-0.012377 -0.0164376 -0.0315137" rpy="-2.22524 0.263005 -0.720484" />
<parent link="wheel_2" />
<child link="passivewheel_34" />
<axis xyz="0 0 1"/>
<limit effort="1" velocity="20" />
<joint_properties friction="0.0"/>
</joint>

<link name="passivewheel_35">
<collision>
<origin xyz="-1.07496e-19 1.36837e-17 -0.002" rpy="9.78364e-17 4.00891e-18 -2.57516e-17" />
<geometry>
<cylinder length="0.003" radius="0.006" />
</geometry>
</collision>
<visual>
<origin xyz="-1.07496e-19 1.36837e-17 -0.002" rpy="9.78364e-17 4.00891e-18 -2.57516e-17" />
<geometry>
<cylinder length="0.003" radius="0.006" />
</geometry>
<material name="passivewheel_material">
<color rgba="0.301961 0.290196 0.262745 1.0"/>
</material>
</visual>
<inertial>
<origin xyz="-9.43518e-20 1.40725e-17 -0.002" rpy="0 0 0"/>
<mass value="0.00285906" />
<inertia ixx="2.77473e-08" ixy="-1.89727e-25"  ixz="-1.6877e-24" iyy="2.77473e-08" iyz="2.09935e-24" izz="4.89774e-08" />
</inertial>
</link>

<joint name="w3_15_passive" type="revolute">
<origin xyz="-0.0167463 -0.0240055 -0.02366" rpy="-2.55942 0.251389 -0.884893" />
<parent link="wheel_2" />
<child link="passivewheel_35" />
<axis xyz="0 0 1"/>
<limit effort="1" velocity="20" />
<joint_properties friction="0.0"/>
</joint>

<link name="passivewheel_36">
<collision>
<origin xyz="-8.32575e-20 -1.2726e-19 -0.002" rpy="-3.11229e-17 5.76895e-17 -1.37229e-17" />
<geometry>
<cylinder length="0.003" radius="0.006" />
</geometry>
</collision>
<visual>
<origin xyz="-8.32575e-20 -1.2726e-19 -0.002" rpy="-3.11229e-17 5.76895e-17 -1.37229e-17" />
<geometry>
<cylinder length="0.003" radius="0.006" />
</geometry>
<material name="passivewheel_material">
<color rgba="0.301961 0.290196 0.262745 1.0"/>
</material>
</visual>
<inertial>
<origin xyz="-7.01135e-20 2.61525e-19 -0.002" rpy="0 0 0"/>
<mass value="0.00285906" />
<inertia ixx="2.77473e-08" ixy="-4.15318e-25"  ixz="-3.98057e-24" iyy="2.77473e-08" iyz="-3.28988e-24" izz="4.89774e-08" />
</inertial>
</link>

<joint name="w3_16_passive" type="revolute">
<origin xyz="-0.0196884 -0.0291012 -0.0134903" rpy="-2.86413 0.149286 -1.00486" />
<parent link="wheel_2" />
<child link="passivewheel_36" />
<axis xyz="0 0 1"/>
<limit effort="1" velocity="20" />
<joint_properties friction="0.0"/>
</joint>

<link name="passivewheel_37">
<collision>
<origin xyz="2.27711e-48 -1.38778e-17 -0.002" rpy="2.46519e-32 -5.69278e-46 -1.54074e-33" />
<geometry>
<cylinder length="0.003" radius="0.006" />
</geometry>
</collision>
<visual>
<origin xyz="2.27711e-48 -1.38778e-17 -0.002" rpy="2.46519e-32 -5.69278e-46 -1.54074e-33" />
<geometry>
<cylinder length="0.003" radius="0.006" />
</geometry>
<material name="passivewheel_material">
<color rgba="0.301961 0.290196 0.262745 1.0"/>
</material>
</visual>
<inertial>
<origin xyz="1.3144e-20 -1.3489e-17 -0.002" rpy="0 0 0"/>
<mass value="0.00285906" />
<inertia ixx="2.77473e-08" ixy="-3.42012e-40"  ixz="5.94735e-53" iyy="2.77473e-08" iyz="1.89141e-39" izz="4.89774e-08" />
</inertial>
</link>

<joint name="w3_17_passive" type="revolute">
<origin xyz="-0.0209151 -0.031226 -0.002" rpy="3.14159 -5.55112e-17 -1.0472" />
<parent link="wheel_2" />
<child link="passivewheel_37" />
<axis xyz="0 0 -1"/>
<limit effort="1" velocity="20" />
<joint_properties friction="0.0"/>
</joint>

<link name="passivewheel_38">
<collision>
<origin xyz="-1.26768e-20 -1.96246e-19 0.002" rpy="1.40036e-17 -2.55171e-17 -3.24688e-18" />
<geometry>
<cylinder length="0.003" radius="0.006" />
</geometry>
</collision>
<visual>
<origin xyz="-1.26768e-20 -1.96246e-19 0.002" rpy="1.40036e-17 -2.55171e-17 -3.24688e-18" />
<geometry>
<cylinder length="0.003" radius="0.006" />
</geometry>
<material name="passivewheel_material">
<color rgba="0.301961 0.290196 0.262745 1.0"/>
</material>
</visual>
<inertial>
<origin xyz="4.67192e-22 1.92539e-19 0.002" rpy="0 0 0"/>
<mass value="0.00285906" />
<inertia ixx="2.77473e-08" ixy="-1.84005e-26"  ixz="1.07389e-24" iyy="2.77473e-08" iyz="-2.03678e-24" izz="4.89774e-08" />
</inertial>
</link>

<joint name="w3_18_passive" type="revolute">
<origin xyz="-0.0203064 -0.0301717 0.00968602" rpy="-0.277462 -0.149286 -1.00486" />
<parent link="wheel_2" />
<child link="passivewheel_38" />
<axis xyz="0 0 -1"/>
<limit effort="1" velocity="20" />
<joint_properties friction="0.0"/>
</joint>

<link name="passivewheel_39">
<collision>
<origin xyz="-3.14697e-20 3.09308e-20 0.002" rpy="3.68679e-17 -6.68594e-17 -2.47558e-17" />
<geometry>
<cylinder length="0.003" radius="0.006" />
</geometry>
</collision>
<visual>
<origin xyz="-3.14697e-20 3.09308e-20 0.002" rpy="3.68679e-17 -6.68594e-17 -2.47558e-17" />
<geometry>
<cylinder length="0.003" radius="0.006" />
</geometry>
<material name="passivewheel_material">
<color rgba="0.301961 0.290196 0.262745 1.0"/>
</material>
</visual>
<inertial>
<origin xyz="-1.83256e-20 4.19716e-19 0.002" rpy="0 0 0"/>
<mass value="0.00285906" />
<inertia ixx="2.77473e-08" ixy="-9.25127e-25"  ixz="2.838e-24" iyy="2.77473e-08" iyz="2.23482e-24" izz="4.89774e-08" />
</inertial>
</link>

<joint name="w3_19_passive" type="revolute">
<origin xyz="-0.0179219 -0.0260417 0.0204239" rpy="-0.58217 -0.251389 -0.884893" />
<parent link="wheel_2" />
<child link="passivewheel_39" />
<axis xyz="0 0 -1"/>
<limit effort="1" velocity="20" />
<joint_properties friction="0.0"/>
</joint>

<link name="passivewheel_40">
<collision>
<origin xyz="3.56879e-20 3.35302e-19 0.002" rpy="-7.07395e-17 2.70452e-17 -2.41104e-18" />
<geometry>
<cylinder length="0.003" radius="0.006" />
</geometry>
</collision>
<visual>
<origin xyz="3.56879e-20 3.35302e-19 0.002" rpy="-7.07395e-17 2.70452e-17 -2.41104e-18" />
<geometry>
<cylinder length="0.003" radius="0.006" />
</geometry>
<material name="passivewheel_material">
<color rgba="0.301961 0.290196 0.262745 1.0"/>
</material>
</visual>
<inertial>
<origin xyz="4.88319e-20 7.24087e-19 0.002" rpy="0 0 0"/>
<mass value="0.00285906" />
<inertia ixx="2.77473e-08" ixy="-1.90815e-24"  ixz="-8.29482e-25" iyy="2.77473e-08" iyz="1.18722e-24" izz="4.89774e-08" />
</inertial>
</link>

<joint name="w3_20_passive" type="revolute">
<origin xyz="-0.0139951 -0.0192401 0.0291626" rpy="-0.916354 -0.263005 -0.720484" />
<parent link="wheel_2" />
<child link="passivewheel_40" />
<axis xyz="0 0 -1"/>
<limit effort="1" velocity="20" />
<joint_properties friction="0.0"/>
</joint>

<joint name="wheel3_speed" type="revolute">
<origin xyz="-0.069282 -0.04 0.013" rpy="0 -0 1.0472" />
<parent link="body_1" />
<child link="wheel_2" />
<axis xyz="0.866025 -0.5 0"/>
<limit effort="1" velocity="20" />
<joint_properties friction="0.0"/>
</joint>

<link name="wheel_3">
<collision>
<origin xyz="-0.0649519 0.0375 -0.013" rpy="0 -0 -5.05344e-18" />
<geometry>
<mesh filename="package://wheel.stl"/>
</geometry>
<material name="wheel_material">
<color rgba="0.941176 0.87451 0.678431 1.0"/>
</material>
</collision>
<visual>
<origin xyz="-0.0649519 0.0375 -0.013" rpy="0 -0 -5.05344e-18" />
<geometry>
<mesh filename="package://wheel.stl"/>
</geometry>
<material name="wheel_material">
<color rgba="0.941176 0.87451 0.678431 1.0"/>
</material>
</visual>
<inertial>
<origin xyz="0.00216506 -0.00125 1.43812e-09" rpy="0 0 0"/>
<mass value="0.0192491" />
<inertia ixx="1.19744e-05" ixy="-2.94324e-06"  ixz="-2.17358e-13" iyy="8.5758e-06" iyz="-4.22e-13" izz="6.87651e-06" />
</inertial>
</link>

<link name="passivewheel_41">
<collision>
<origin xyz="-2.69552e-20 1.16973e-19 -0.002" rpy="-1.91851e-17 3.61287e-18 -1.19963e-17" />
<geometry>
<cylinder length="0.003" radius="0.006" />
</geometry>
</collision>
<visual>
<origin xyz="-2.69552e-20 1.16973e-19 -0.002" rpy="-1.91851e-17 3.61287e-18 -1.19963e-17" />
<geometry>
<cylinder length="0.003" radius="0.006" />
</geometry>
<material name="passivewheel_material">
<color rgba="0.301961 0.290196 0.262745 1.0"/>
</material>
</visual>
<inertial>
<origin xyz="-1.38112e-20 5.05758e-19 -0.002" rpy="0 0 0"/>
<mass value="0.00285906" />
<inertia ixx="2.77473e-08" ixy="-3.34064e-25"  ixz="-5.50915e-25" iyy="2.77473e-08" iyz="6.83206e-25" izz="4.89774e-08" />
</inertial>
</link>

<joint name="w2_1_passive" type="revolute">
<origin xyz="-0.00458006 -0.0129329 0.0350466" rpy="-1.88959 -0.167828 2.67307" />
<parent link="wheel_3" />
<child link="passivewheel_41" />
<axis xyz="0 0 -1"/>
<limit effort="1" velocity="20" />
<joint_properties friction="0.0"/>
</joint>

<link name="passivewheel_42">
<collision>
<origin xyz="4.93038e-35 -3.46945e-18 0.002" rpy="6.23173e-32 -6.29859e-32 3.07307e-32" />
<geometry>
<cylinder length="0.003" radius="0.006" />
</geometry>
</collision>
<visual>
<origin xyz="4.93038e-35 -3.46945e-18 0.002" rpy="6.23173e-32 -6.29859e-32 3.07307e-32" />
<geometry>
<cylinder length="0.003" radius="0.006" />
</geometry>
<material name="passivewheel_material">
<color rgba="0.301961 0.290196 0.262745 1.0"/>
</material>
</visual>
<inertial>
<origin xyz="1.3144e-20 -3.08066e-18 0.002" rpy="0 0 0"/>
<mass value="0.00285906" />
<inertia ixx="2.77473e-08" ixy="1.03376e-39"  ixz="3.76891e-39" iyy="2.77473e-08" iyz="3.05214e-39" izz="4.89774e-08" />
</inertial>
</link>

<joint name="w2_2_passive" type="revolute">
<origin xyz="0.00116506 -0.00298205 0.0375" rpy="1.5708 4.67156e-16 2.61799" />
<parent link="wheel_3" />
<child link="passivewheel_42" />
<axis xyz="0 0 -1"/>
<limit effort="1" velocity="20" />
<joint_properties friction="0.0"/>
</joint>

<link name="passivewheel_43">
<collision>
<origin xyz="1.38746e-17 3.45419e-20 0.002" rpy="6.15473e-17 2.91504e-18 2.5086e-17" />
<geometry>
<cylinder length="0.003" radius="0.006" />
</geometry>
</collision>
<visual>
<origin xyz="1.38746e-17 3.45419e-20 0.002" rpy="6.15473e-17 2.91504e-18 2.5086e-17" />
<geometry>
<cylinder length="0.003" radius="0.006" />
</geometry>
<material name="passivewheel_material">
<color rgba="0.301961 0.290196 0.262745 1.0"/>
</material>
</visual>
<inertial>
<origin xyz="1.38877e-17 4.23327e-19 0.002" rpy="0 0 0"/>
<mass value="0.00285906" />
<inertia ixx="2.77473e-08" ixy="-2.80018e-25"  ixz="-1.87586e-25" iyy="2.77473e-08" iyz="3.49365e-24" izz="4.89774e-08" />
</inertial>
</link>

<joint name="w2_3_passive" type="revolute">
<origin xyz="0.00700808 0.00713834 0.0362827" rpy="1.88959 0.167828 2.67307" />
<parent link="wheel_3" />
<child link="passivewheel_43" />
<axis xyz="0 0 1"/>
<limit effort="1" velocity="20" />
<joint_properties friction="0.0"/>
</joint>

<link name="passivewheel_44">
<collision>
<origin xyz="1.39272e-17 3.28188e-18 0.002" rpy="1.00696e-16 -1.87309e-17 -4.71991e-17" />
<geometry>
<cylinder length="0.003" radius="0.006" />
</geometry>
</collision>
<visual>
<origin xyz="1.39272e-17 3.28188e-18 0.002" rpy="1.00696e-16 -1.87309e-17 -4.71991e-17" />
<geometry>
<cylinder length="0.003" radius="0.006" />
</geometry>
<material name="passivewheel_material">
<color rgba="0.301961 0.290196 0.262745 1.0"/>
</material>
</visual>
<inertial>
<origin xyz="1.39403e-17 3.67067e-18 0.002" rpy="0 0 0"/>
<mass value="0.00285906" />
<inertia ixx="2.77473e-08" ixy="-2.7038e-24"  ixz="1.60299e-24" iyy="2.77473e-08" iyz="3.83379e-24" izz="4.89774e-08" />
</inertial>
</link>

<joint name="w2_4_passive" type="revolute">
<origin xyz="0.012377 0.0164376 0.0315137" rpy="2.22524 0.263005 2.81488" />
<parent link="wheel_3" />
<child link="passivewheel_44" />
<axis xyz="0 0 -1"/>
<limit effort="1" velocity="20" />
<joint_properties friction="0.0"/>
</joint>

<link name="passivewheel_45">
<collision>
<origin xyz="-1.37807e-17 1.42261e-18 0.002" rpy="9.63926e-17 -1.2152e-17 2.30227e-17" />
<geometry>
<cylinder length="0.003" radius="0.006" />
</geometry>
</collision>
<visual>
<origin xyz="-1.37807e-17 1.42261e-18 0.002" rpy="9.63926e-17 -1.2152e-17 2.30227e-17" />
<geometry>
<cylinder length="0.003" radius="0.006" />
</geometry>
<material name="passivewheel_material">
<color rgba="0.301961 0.290196 0.262745 1.0"/>
</material>
</visual>
<inertial>
<origin xyz="-1.37675e-17 1.8114e-18 0.002" rpy="0 0 0"/>
<mass value="0.00285906" />
<inertia ixx="2.77473e-08" ixy="1.36382e-24"  ixz="1.94254e-24" iyy="2.77473e-08" iyz="3.90948e-25" izz="4.89774e-08" />
</inertial>
</link>

<joint name="w2_5_passive" type="revolute">
<origin xyz="0.0167463 0.0240055 0.02366" rpy="2.55942 0.251389 2.97929" />
<parent link="wheel_3" />
<child link="passivewheel_45" />
<axis xyz="0 0 -1"/>
<limit effort="1" velocity="20" />
<joint_properties friction="0.0"/>
</joint>

<link name="passivewheel_46">
<collision>
<origin xyz="1.39015e-17 1.6233e-18 0.002" rpy="-1.6755e-17 -1.35448e-17 -1.68154e-17" />
<geometry>
<cylinder length="0.003" radius="0.006" />
</geometry>
</collision>
<visual>
<origin xyz="1.39015e-17 1.6233e-18 0.002" rpy="-1.6755e-17 -1.35448e-17 -1.68154e-17" />
<geometry>
<cylinder length="0.003" radius="0.006" />
</geometry>
<material name="passivewheel_material">
<color rgba="0.301961 0.290196 0.262745 1.0"/>
</material>
</visual>
<inertial>
<origin xyz="1.39146e-17 2.01208e-18 0.002" rpy="0 0 0"/>
<mass value="0.00285906" />
<inertia ixx="2.77473e-08" ixy="-2.08795e-24"  ixz="9.91854e-25" iyy="2.77473e-08" iyz="-2.36652e-24" izz="4.89774e-08" />
</inertial>
</link>

<joint name="w2_6_passive" type="revolute">
<origin xyz="0.0196884 0.0291012 0.0134903" rpy="2.86413 0.149286 3.09926" />
<parent link="wheel_3" />
<child link="passivewheel_46" />
<axis xyz="0 0 -1"/>
<limit effort="1" velocity="20" />
<joint_properties friction="0.0"/>
</joint>

<link name="passivewheel_47">
<collision>
<origin xyz="3.27718e-34 -6.93889e-18 -0.002" rpy="1.7081e-31 -1.19638e-31 -2.11228e-17" />
<geometry>
<cylinder length="0.003" radius="0.006" />
</geometry>
</collision>
<visual>
<origin xyz="3.27718e-34 -6.93889e-18 -0.002" rpy="1.7081e-31 -1.19638e-31 -2.11228e-17" />
<geometry>
<cylinder length="0.003" radius="0.006" />
</geometry>
<material name="passivewheel_material">
<color rgba="0.301961 0.290196 0.262745 1.0"/>
</material>
</visual>
<inertial>
<origin xyz="1.3144e-20 -6.55011e-18 -0.002" rpy="0 0 0"/>
<mass value="0.00285906" />
<inertia ixx="2.77473e-08" ixy="-2.11687e-24"  ixz="1.04062e-38" iyy="2.77473e-08" iyz="3.62632e-39" izz="4.89774e-08" />
</inertial>
</link>

<joint name="w2_7_passive" type="revolute">
<origin xyz="0.0209151 0.031226 0.002" rpy="4.83587e-15 -7.90364e-17 -2.48749" />
<parent link="wheel_3" />
<child link="passivewheel_47" />
<axis xyz="0 0 1"/>
<limit effort="1" velocity="20" />
<joint_properties friction="0.0"/>
</joint>

<link name="passivewheel_48">
<collision>
<origin xyz="-1.38098e-17 5.72839e-18 -0.002" rpy="-8.01367e-17 -1.91493e-17 -5.63415e-17" />
<geometry>
<cylinder length="0.003" radius="0.006" />
</geometry>
</collision>
<visual>
<origin xyz="-1.38098e-17 5.72839e-18 -0.002" rpy="-8.01367e-17 -1.91493e-17 -5.63415e-17" />
<geometry>
<cylinder length="0.003" radius="0.006" />
</geometry>
<material name="passivewheel_material">
<color rgba="0.301961 0.290196 0.262745 1.0"/>
</material>
</visual>
<inertial>
<origin xyz="-1.37967e-17 6.11718e-18 -0.002" rpy="0 0 0"/>
<mass value="0.00285906" />
<inertia ixx="2.77473e-08" ixy="4.14666e-25"  ixz="1.88091e-24" iyy="2.77473e-08" iyz="-2.66878e-24" izz="4.89774e-08" />
</inertial>
</link>

<joint name="w2_8_passive" type="revolute">
<origin xyz="0.0203064 0.0301717 -0.00968602" rpy="0.277462 -0.149286 3.09926" />
<parent link="wheel_3" />
<child link="passivewheel_48" />
<axis xyz="0 0 -1"/>
<limit effort="1" velocity="20" />
<joint_properties friction="0.0"/>
</joint>

<link name="passivewheel_49">
<collision>
<origin xyz="-1.39844e-17 6.72681e-19 -0.002" rpy="1.96125e-17 -3.90327e-17 8.81124e-18" />
<geometry>
<cylinder length="0.003" radius="0.006" />
</geometry>
</collision>
<visual>
<origin xyz="-1.39844e-17 6.72681e-19 -0.002" rpy="1.96125e-17 -3.90327e-17 8.81124e-18" />
<geometry>
<cylinder length="0.003" radius="0.006" />
</geometry>
<material name="passivewheel_material">
<color rgba="0.301961 0.290196 0.262745 1.0"/>
</material>
</visual>
<inertial>
<origin xyz="-1.39712e-17 1.06147e-18 -0.002" rpy="0 0 0"/>
<mass value="0.00285906" />
<inertia ixx="2.77473e-08" ixy="1.60884e-24"  ixz="4.32707e-25" iyy="2.77473e-08" iyz="-1.74037e-24" izz="4.89774e-08" />
</inertial>
</link>

<joint name="w2_9_passive" type="revolute">
<origin xyz="0.0179219 0.0260417 -0.0204239" rpy="0.58217 -0.251389 2.97929" />
<parent link="wheel_3" />
<child link="passivewheel_49" />
<axis xyz="0 0 1"/>
<limit effort="1" velocity="20" />
<joint_properties friction="0.0"/>
</joint>

<link name="passivewheel_50">
<collision>
<origin xyz="1.38576e-17 -3.54939e-18 0.002" rpy="2.78819e-17 -2.06225e-17 1.86451e-17" />
<geometry>
<cylinder length="0.003" radius="0.006" />
</geometry>
</collision>
<visual>
<origin xyz="1.38576e-17 -3.54939e-18 0.002" rpy="2.78819e-17 -2.06225e-17 1.86451e-17" />
<geometry>
<cylinder length="0.003" radius="0.006" />
</geometry>
<material name="passivewheel_material">
<color rgba="0.301961 0.290196 0.262745 1.0"/>
</material>
</visual>
<inertial>
<origin xyz="1.38708e-17 -3.1606e-18 0.002" rpy="0 0 0"/>
<mass value="0.00285906" />
<inertia ixx="2.77473e-08" ixy="1.12203e-24"  ixz="7.30231e-25" iyy="2.77473e-08" iyz="2.56538e-25" izz="4.89774e-08" />
</inertial>
</link>

<joint name="w2_10_passive" type="revolute">
<origin xyz="0.0139951 0.0192401 -0.0291626" rpy="-2.22524 -0.263005 2.81488" />
<parent link="wheel_3" />
<child link="passivewheel_50" />
<axis xyz="0 0 -1"/>
<limit effort="1" velocity="20" />
<joint_properties friction="0.0"/>
</joint>

<link name="passivewheel_51">
<collision>
<origin xyz="-1.39274e-17 7.16693e-18 0.002" rpy="-2.62603e-17 -1.21496e-17 -3.76168e-17" />
<geometry>
<cylinder length="0.003" radius="0.006" />
</geometry>
</collision>
<visual>
<origin xyz="-1.39274e-17 7.16693e-18 0.002" rpy="-2.62603e-17 -1.21496e-17 -3.76168e-17" />
<geometry>
<cylinder length="0.003" radius="0.006" />
</geometry>
<material name="passivewheel_material">
<color rgba="0.301961 0.290196 0.262745 1.0"/>
</material>
</visual>
<inertial>
<origin xyz="-1.39143e-17 7.55572e-18 0.002" rpy="0 0 0"/>
<mass value="0.00285906" />
<inertia ixx="2.77473e-08" ixy="-7.01407e-25"  ixz="-9.36086e-26" iyy="2.77473e-08" iyz="1.87758e-24" izz="4.89774e-08" />
</inertial>
</link>

<joint name="w2_11_passive" type="revolute">
<origin xyz="0.00891019 0.0104329 -0.0350466" rpy="-1.88959 -0.167828 2.67307" />
<parent link="wheel_3" />
<child link="passivewheel_51" />
<axis xyz="0 0 -1"/>
<limit effort="1" velocity="20" />
<joint_properties friction="0.0"/>
</joint>

<link name="passivewheel_52">
<collision>
<origin xyz="-3.94666e-35 0 0.002" rpy="0 1.30441e-32 0" />
<geometry>
<cylinder length="0.003" radius="0.006" />
</geometry>
</collision>
<visual>
<origin xyz="-3.94666e-35 0 0.002" rpy="0 1.30441e-32 0" />
<geometry>
<cylinder length="0.003" radius="0.006" />
</geometry>
<material name="passivewheel_material">
<color rgba="0.301961 0.290196 0.262745 1.0"/>
</material>
</visual>
<inertial>
<origin xyz="1.3144e-20 3.88785e-19 0.002" rpy="0 0 0"/>
<mass value="0.00285906" />
<inertia ixx="2.77473e-08" ixy="0"  ixz="-1.18641e-39" iyy="2.77473e-08" iyz="0" izz="4.89774e-08" />
</inertial>
</link>

<joint name="w2_12_passive" type="revolute">
<origin xyz="0.00316506 0.000482051 -0.0375" rpy="-1.5708 -7.50935e-17 2.61799" />
<parent link="wheel_3" />
<child link="passivewheel_52" />
<axis xyz="0 0 -1"/>
<limit effort="1" velocity="20" />
<joint_properties friction="0.0"/>
</joint>

<link name="passivewheel_53">
<collision>
<origin xyz="-1.38872e-17 -1.39736e-17 0.002" rpy="6.05681e-17 2.11488e-18 3.54817e-17" />
<geometry>
<cylinder length="0.003" radius="0.006" />
</geometry>
</collision>
<visual>
<origin xyz="-1.38872e-17 -1.39736e-17 0.002" rpy="6.05681e-17 2.11488e-18 3.54817e-17" />
<geometry>
<cylinder length="0.003" radius="0.006" />
</geometry>
<material name="passivewheel_material">
<color rgba="0.301961 0.290196 0.262745 1.0"/>
</material>
</visual>
<inertial>
<origin xyz="-1.38741e-17 -1.35848e-17 0.002" rpy="0 0 0"/>
<mass value="0.00285906" />
<inertia ixx="2.77473e-08" ixy="5.20219e-25"  ixz="-2.34368e-25" iyy="2.77473e-08" iyz="1.63687e-24" izz="4.89774e-08" />
</inertial>
</link>

<joint name="w2_13_passive" type="revolute">
<origin xyz="-0.00267795 -0.00963834 -0.0362827" rpy="-1.252 0.167828 2.67307" />
<parent link="wheel_3" />
<child link="passivewheel_53" />
<axis xyz="0 0 -1"/>
<limit effort="1" velocity="20" />
<joint_properties friction="0.0"/>
</joint>

<link name="passivewheel_54">
<collision>
<origin xyz="1.38468e-17 1.69505e-19 -0.002" rpy="9.70534e-17 3.71693e-17 -6.85477e-18" />
<geometry>
<cylinder length="0.003" radius="0.006" />
</geometry>
</collision>
<visual>
<origin xyz="1.38468e-17 1.69505e-19 -0.002" rpy="9.70534e-17 3.71693e-17 -6.85477e-18" />
<geometry>
<cylinder length="0.003" radius="0.006" />
</geometry>
<material name="passivewheel_material">
<color rgba="0.301961 0.290196 0.262745 1.0"/>
</material>
</visual>
<inertial>
<origin xyz="1.386e-17 5.5829e-19 -0.002" rpy="0 0 0"/>
<mass value="0.00285906" />
<inertia ixx="2.77473e-08" ixy="-1.10988e-24"  ixz="-2.24969e-24" iyy="2.77473e-08" iyz="7.10507e-24" izz="4.89774e-08" />
</inertial>
</link>

<joint name="w2_14_passive" type="revolute">
<origin xyz="-0.00804689 -0.0189376 -0.0315137" rpy="2.22524 0.263005 2.81488" />
<parent link="wheel_3" />
<child link="passivewheel_54" />
<axis xyz="0 0 1"/>
<limit effort="1" velocity="20" />
<joint_properties friction="0.0"/>
</joint>

<link name="passivewheel_55">
<collision>
<origin xyz="1.38404e-17 -1.38558e-17 -0.002" rpy="-2.60893e-17 2.93652e-17 2.31619e-17" />
<geometry>
<cylinder length="0.003" radius="0.006" />
</geometry>
</collision>
<visual>
<origin xyz="1.38404e-17 -1.38558e-17 -0.002" rpy="-2.60893e-17 2.93652e-17 2.31619e-17" />
<geometry>
<cylinder length="0.003" radius="0.006" />
</geometry>
<material name="passivewheel_material">
<color rgba="0.301961 0.290196 0.262745 1.0"/>
</material>
</visual>
<inertial>
<origin xyz="1.38536e-17 -1.3467e-17 -0.002" rpy="0 0 0"/>
<mass value="0.00285906" />
<inertia ixx="2.77473e-08" ixy="9.57489e-25"  ixz="-1.95682e-24" iyy="2.77473e-08" iyz="-9.731e-25" izz="4.89774e-08" />
</inertial>
</link>

<joint name="w2_15_passive" type="revolute">
<origin xyz="-0.0124162 -0.0265055 -0.02366" rpy="2.55942 0.251389 2.97929" />
<parent link="wheel_3" />
<child link="passivewheel_55" />
<axis xyz="0 0 1"/>
<limit effort="1" velocity="20" />
<joint_properties friction="0.0"/>
</joint>

<link name="passivewheel_56">
<collision>
<origin xyz="2.08297e-20 1.36977e-17 -0.002" rpy="-2.92645e-17 5.10645e-18 3.79591e-17" />
<geometry>
<cylinder length="0.003" radius="0.006" />
</geometry>
</collision>
<visual>
<origin xyz="2.08297e-20 1.36977e-17 -0.002" rpy="-2.92645e-17 5.10645e-18 3.79591e-17" />
<geometry>
<cylinder length="0.003" radius="0.006" />
</geometry>
<material name="passivewheel_material">
<color rgba="0.301961 0.290196 0.262745 1.0"/>
</material>
</visual>
<inertial>
<origin xyz="3.39737e-20 1.40864e-17 -0.002" rpy="0 0 0"/>
<mass value="0.00285906" />
<inertia ixx="2.77473e-08" ixy="8.66896e-25"  ixz="3.88835e-26" iyy="2.77473e-08" iyz="-3.9323e-24" izz="4.89774e-08" />
</inertial>
</link>

<joint name="w2_16_passive" type="revolute">
<origin xyz="-0.0153582 -0.0316012 -0.0134903" rpy="2.86413 0.149286 3.09926" />
<parent link="wheel_3" />
<child link="passivewheel_56" />
<axis xyz="0 0 1"/>
<limit effort="1" velocity="20" />
<joint_properties friction="0.0"/>
</joint>

<link name="passivewheel_57">
<collision>
<origin xyz="-8.67362e-19 -1.75533e-36 -0.002" rpy="-4.84261e-32 -2.40657e-32 -2.84666e-17" />
<geometry>
<cylinder length="0.003" radius="0.006" />
</geometry>
</collision>
<visual>
<origin xyz="-8.67362e-19 -1.75533e-36 -0.002" rpy="-4.84261e-32 -2.40657e-32 -2.84666e-17" />
<geometry>
<cylinder length="0.003" radius="0.006" />
</geometry>
<material name="passivewheel_material">
<color rgba="0.301961 0.290196 0.262745 1.0"/>
</material>
</visual>
<inertial>
<origin xyz="-8.54218e-19 3.88785e-19 -0.002" rpy="0 0 0"/>
<mass value="0.00285906" />
<inertia ixx="2.77473e-08" ixy="-2.17764e-24"  ixz="3.24701e-39" iyy="2.77473e-08" iyz="-2.39614e-39" izz="4.89774e-08" />
</inertial>
</link>

<joint name="w2_17_passive" type="revolute">
<origin xyz="-0.0165849 -0.033726 -0.002" rpy="3.14159 -2.4914e-16 -2.48749" />
<parent link="wheel_3" />
<child link="passivewheel_57" />
<axis xyz="0 0 -1"/>
<limit effort="1" velocity="20" />
<joint_properties friction="0.0"/>
</joint>

<link name="passivewheel_58">
<collision>
<origin xyz="-2.15269e-20 1.4105e-19 0.002" rpy="-3.87372e-17 3.5547e-17 7.78379e-17" />
<geometry>
<cylinder length="0.003" radius="0.006" />
</geometry>
</collision>
<visual>
<origin xyz="-2.15269e-20 1.4105e-19 0.002" rpy="-3.87372e-17 3.5547e-17 7.78379e-17" />
<geometry>
<cylinder length="0.003" radius="0.006" />
</geometry>
<material name="passivewheel_material">
<color rgba="0.301961 0.290196 0.262745 1.0"/>
</material>
</visual>
<inertial>
<origin xyz="-8.38285e-21 5.29835e-19 0.002" rpy="0 0 0"/>
<mass value="0.00285906" />
<inertia ixx="2.77473e-08" ixy="3.16948e-24"  ixz="-2.03965e-24" iyy="2.77473e-08" iyz="5.96288e-26" izz="4.89774e-08" />
</inertial>
</link>

<joint name="w2_18_passive" type="revolute">
<origin xyz="-0.0159763 -0.0326717 0.00968602" rpy="0.277462 -0.149286 3.09926" />
<parent link="wheel_3" />
<child link="passivewheel_58" />
<axis xyz="0 0 -1"/>
<limit effort="1" velocity="20" />
<joint_properties friction="0.0"/>
</joint>

<link name="passivewheel_59">
<collision>
<origin xyz="-1.38839e-17 -6.90429e-18 0.002" rpy="-3.05014e-17 2.40461e-17 1.08034e-17" />
<geometry>
<cylinder length="0.003" radius="0.006" />
</geometry>
</collision>
<visual>
<origin xyz="-1.38839e-17 -6.90429e-18 0.002" rpy="-3.05014e-17 2.40461e-17 1.08034e-17" />
<geometry>
<cylinder length="0.003" radius="0.006" />
</geometry>
<material name="passivewheel_material">
<color rgba="0.301961 0.290196 0.262745 1.0"/>
</material>
</visual>
<inertial>
<origin xyz="-1.38707e-17 -6.51551e-18 0.002" rpy="0 0 0"/>
<mass value="0.00285906" />
<inertia ixx="2.77473e-08" ixy="-1.04758e-24"  ixz="-1.26217e-24" iyy="2.77473e-08" iyz="-1.01387e-24" izz="4.89774e-08" />
</inertial>
</link>

<joint name="w2_19_passive" type="revolute">
<origin xyz="-0.0135918 -0.0285417 0.0204239" rpy="0.58217 -0.251389 2.97929" />
<parent link="wheel_3" />
<child link="passivewheel_59" />
<axis xyz="0 0 -1"/>
<limit effort="1" velocity="20" />
<joint_properties friction="0.0"/>
</joint>

<link name="passivewheel_60">
<collision>
<origin xyz="-2.77908e-17 -1.3725e-17 0.002" rpy="-2.23749e-17 -2.53155e-17 8.38958e-17" />
<geometry>
<cylinder length="0.003" radius="0.006" />
</geometry>
</collision>
<visual>
<origin xyz="-2.77908e-17 -1.3725e-17 0.002" rpy="-2.23749e-17 -2.53155e-17 8.38958e-17" />
<geometry>
<cylinder length="0.003" radius="0.006" />
</geometry>
<material name="passivewheel_material">
<color rgba="0.301961 0.290196 0.262745 1.0"/>
</material>
</visual>
<inertial>
<origin xyz="-2.77776e-17 -1.33363e-17 0.002" rpy="0 0 0"/>
<mass value="0.00285906" />
<inertia ixx="2.77473e-08" ixy="1.33618e-24"  ixz="7.51508e-25" iyy="2.77473e-08" iyz="1.02332e-24" izz="4.89774e-08" />
</inertial>
</link>

<joint name="w2_20_passive" type="revolute">
<origin xyz="-0.00966493 -0.0217401 0.0291626" rpy="0.916354 -0.263005 2.81488" />
<parent link="wheel_3" />
<child link="passivewheel_60" />
<axis xyz="0 0 -1"/>
<limit effort="1" velocity="20" />
<joint_properties friction="0.0"/>
</joint>

<joint name="wheel2_speed" type="revolute">
<origin xyz="-6.79647e-17 0.08 0.013" rpy="3.14159 -0 1.0472" />
<parent link="body_1" />
<child link="wheel_3" />
<axis xyz="-0.866025 0.5 0"/>
<limit effort="1" velocity="20" />
<joint_properties friction="0.0"/>
</joint>


</robot>
